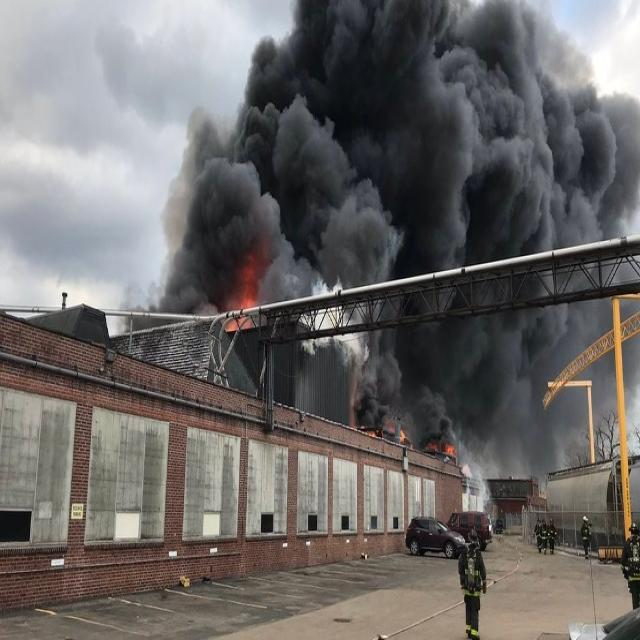Smoke: (123, 0, 640, 479)
